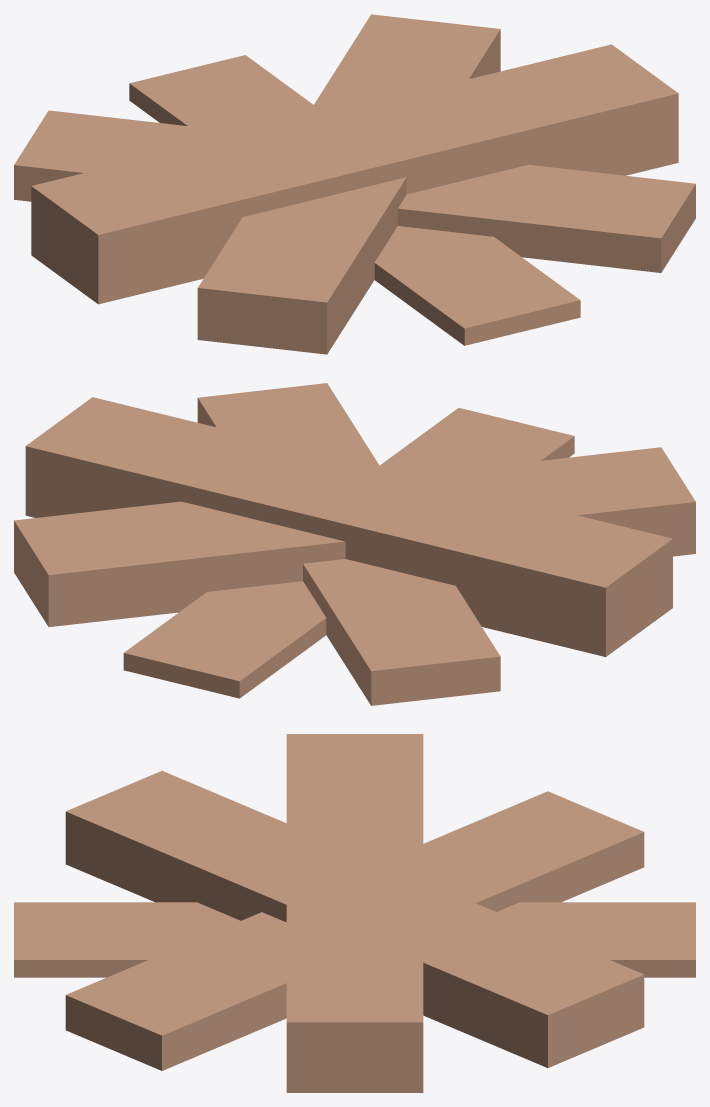
The model's file is campfire_planks.glb.
The picture shows the model from 3 angles, top to bottom: view 1: azimuth 30°, elevation 25°; view 2: azimuth 150°, elevation 25°; view 3: azimuth 270°, elevation 25°; orthographic projection.
Parts seen in each view (by area): view 1: campfire_planks; view 2: campfire_planks; view 3: campfire_planks.
Boxes of the visible parts, x1,y1,x2,y2 form: campfire_planks: [14, 14, 695, 354]; campfire_planks: [14, 383, 695, 705]; campfire_planks: [14, 734, 695, 1092].
Bounding box in the file's own units: 0.35 × 0.04 × 0.35.
